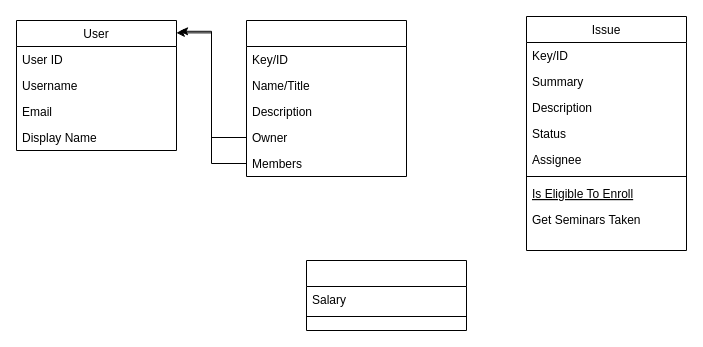
The diagram is 703 pixels wide and 347 high, and some of its shapes have lost their labels. Each missing label, with the box of its shape:
Professor: (306, 260, 466, 330)
Project: (246, 20, 406, 176)
